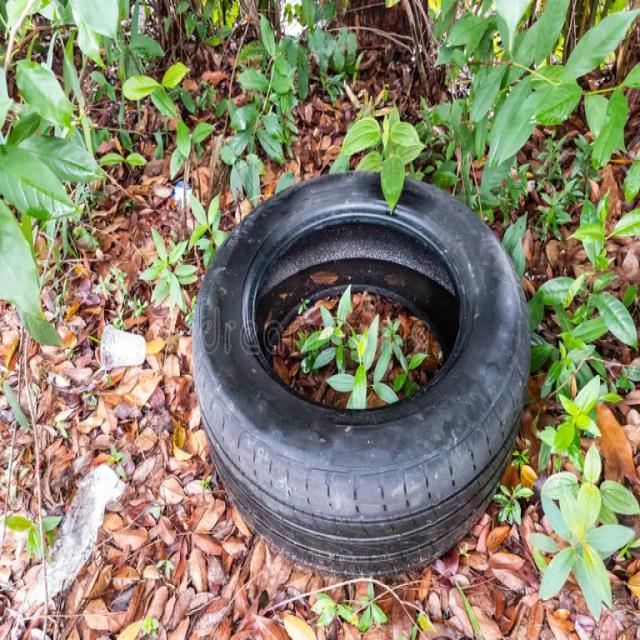tire: (191, 168, 531, 578)
